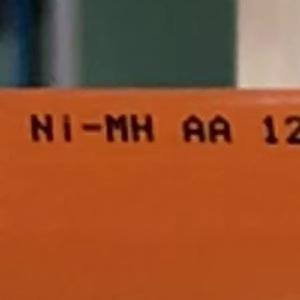keyword: (21, 105, 164, 151)
